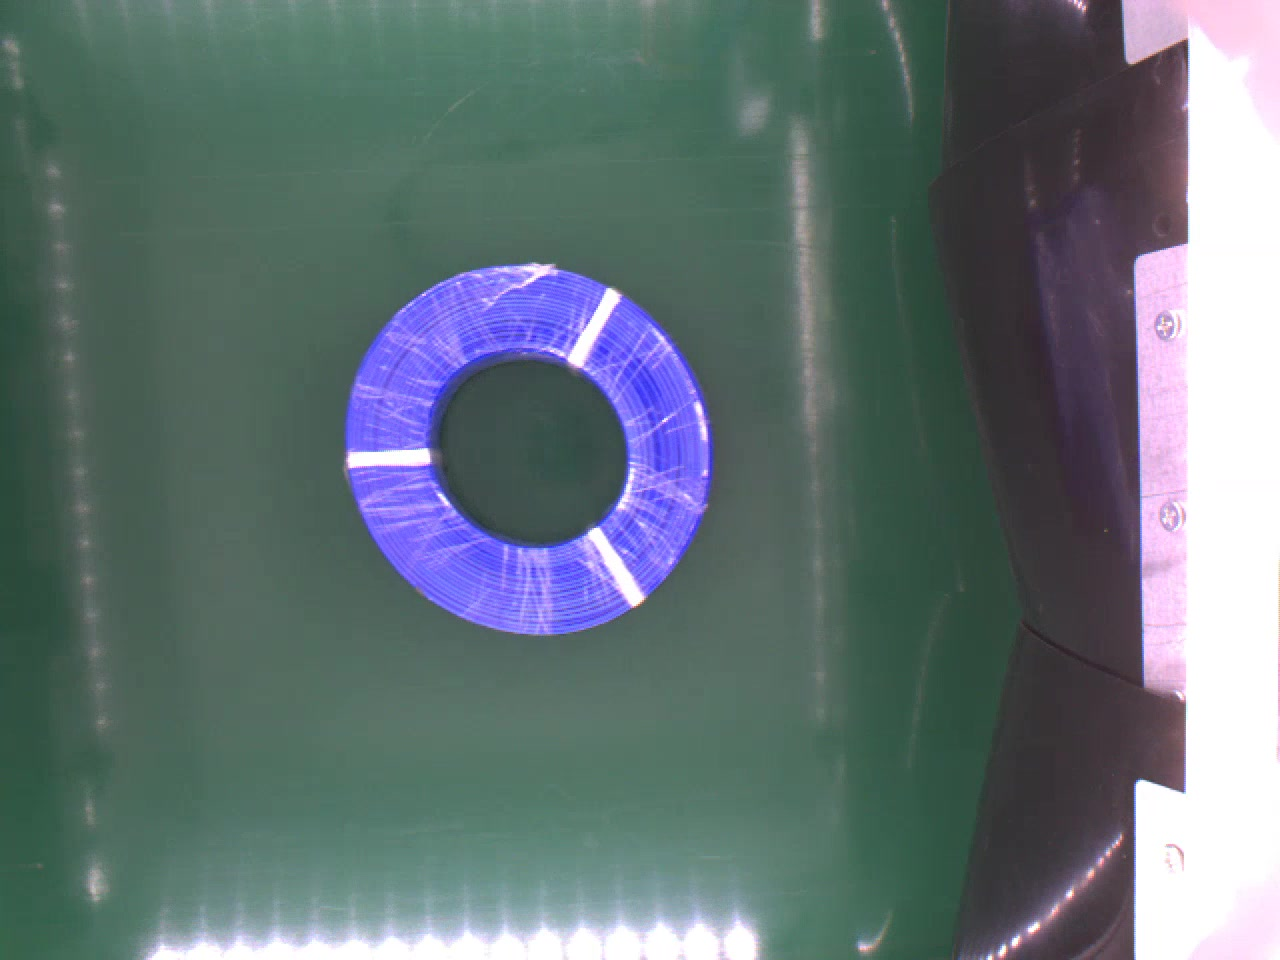blue: (340, 256, 712, 633)
